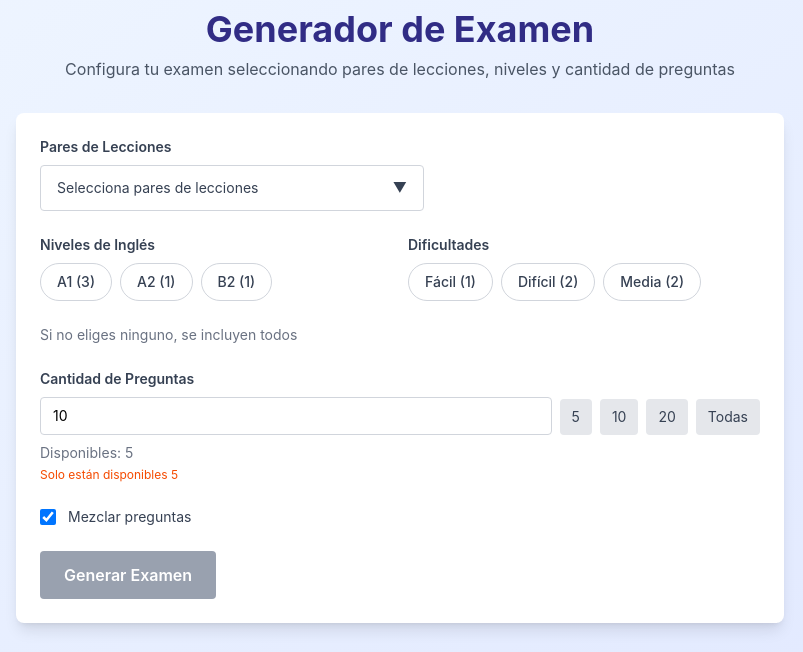
Test: ConfigPage › displays dropdown with pair options when clicked
Click the button "Selecciona pares de lecciones ▼".
click(232, 188)  # box [40,165,424,211]
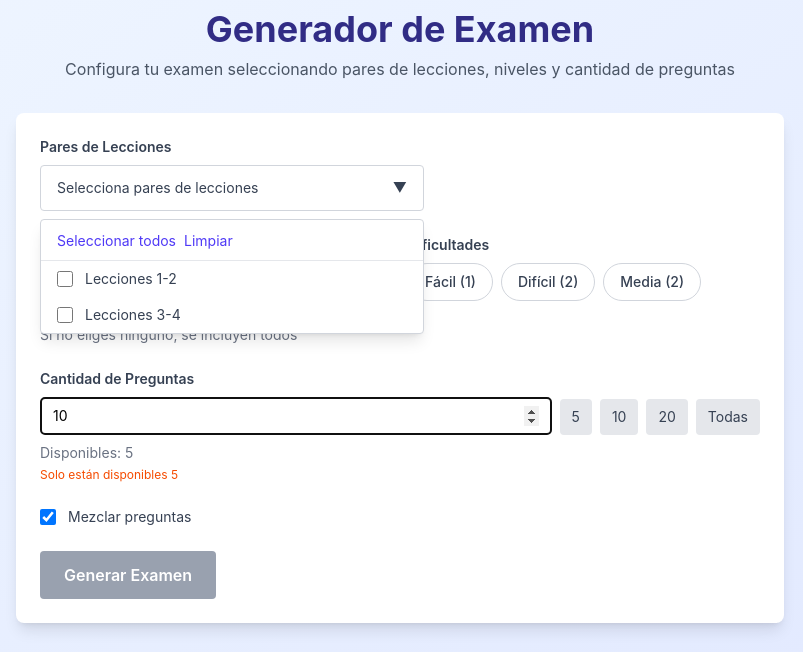
expect the text "Lecciones 1-2" is shown: met, box [85,269,177,289]
expect the text "Lecciones 3-4" is shown: met, box [85,305,181,325]
